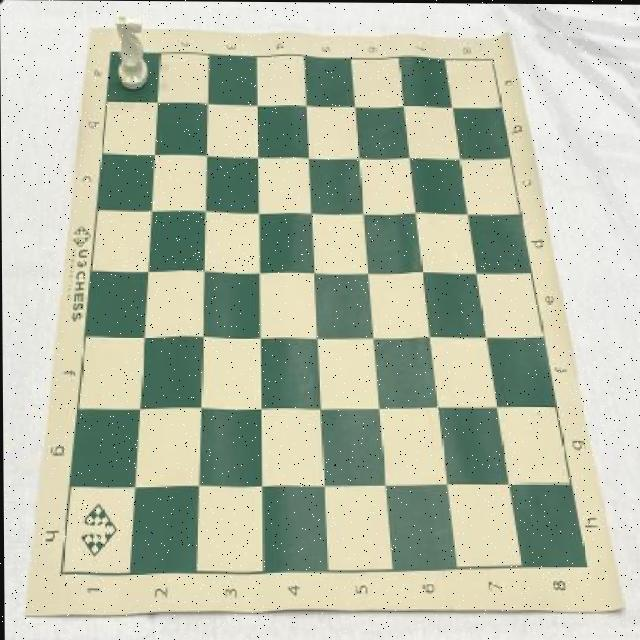white-king: (116, 13, 149, 91)
